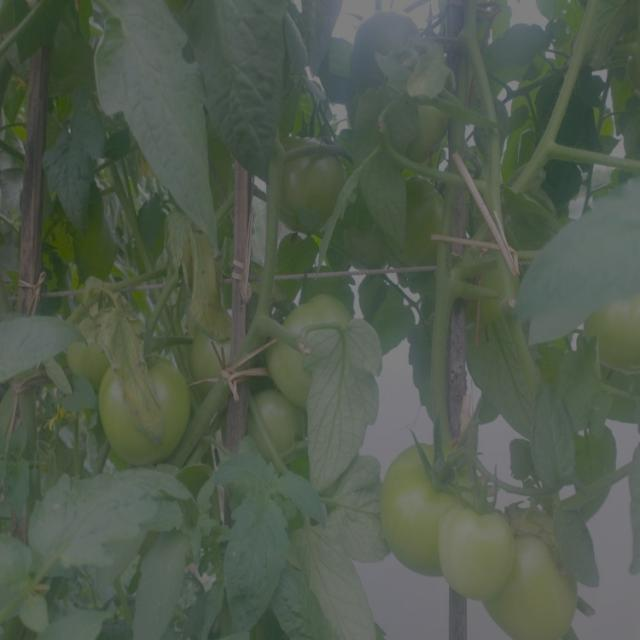tomato: (377, 426, 471, 576), (269, 296, 366, 400), (99, 358, 186, 465), (501, 527, 583, 634), (440, 482, 512, 596), (276, 138, 344, 228), (399, 178, 449, 269), (253, 390, 312, 463), (589, 297, 640, 378), (470, 252, 519, 324), (192, 327, 239, 391), (406, 100, 454, 155), (70, 333, 115, 377)
